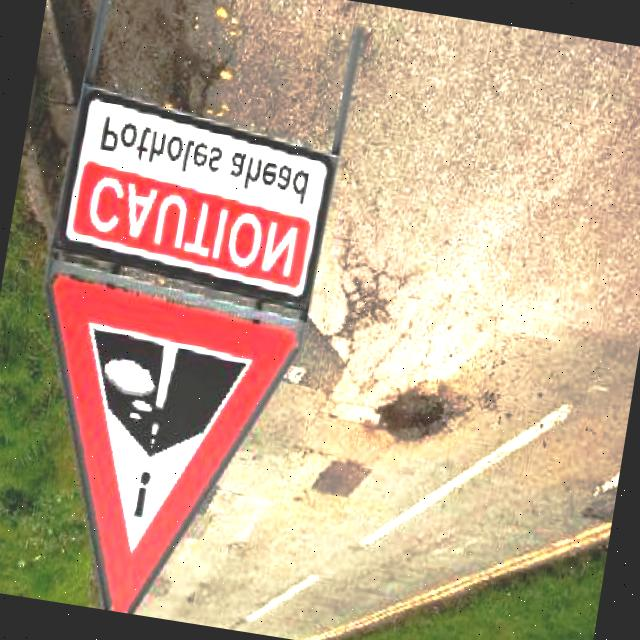pothole: (373, 371, 464, 452)
